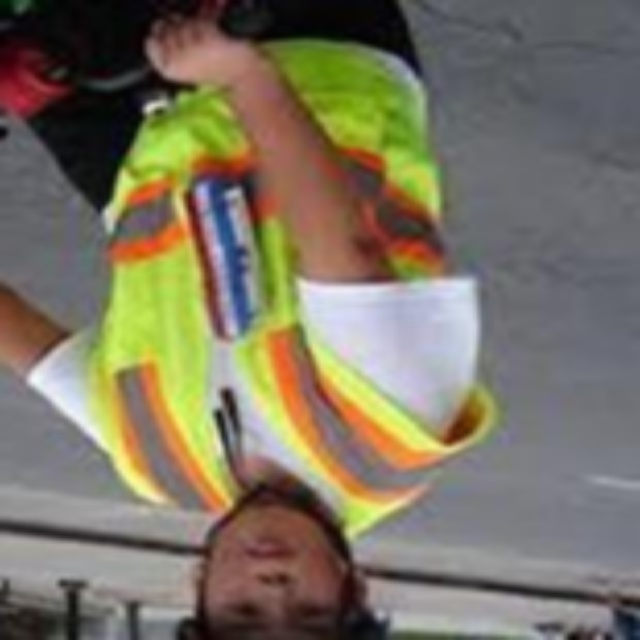Con_Chaleco: (106, 51, 474, 501)
